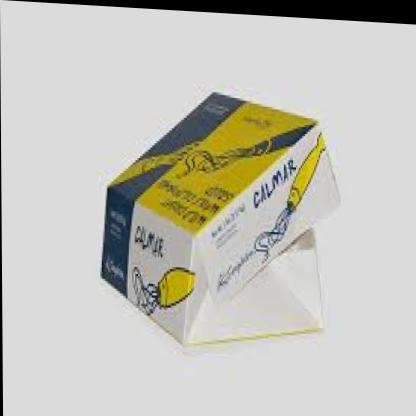trash: (101, 93, 339, 343)
